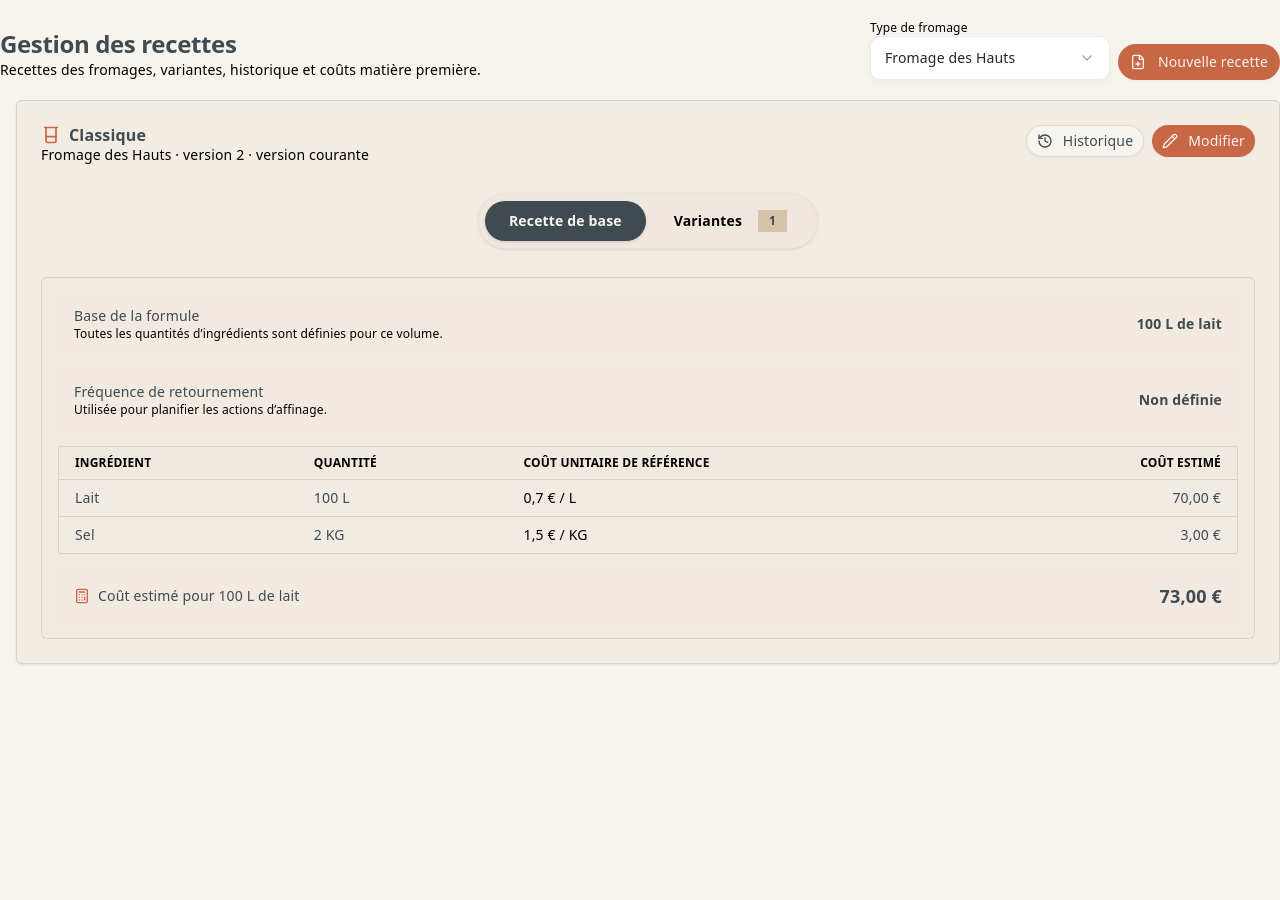
Test: gestion des recettes › conserve le formulaire ouvert et sa saisie après une erreur backend
Click the button "Modifier".
click(1204, 141)  # box [1152, 125, 1255, 157]
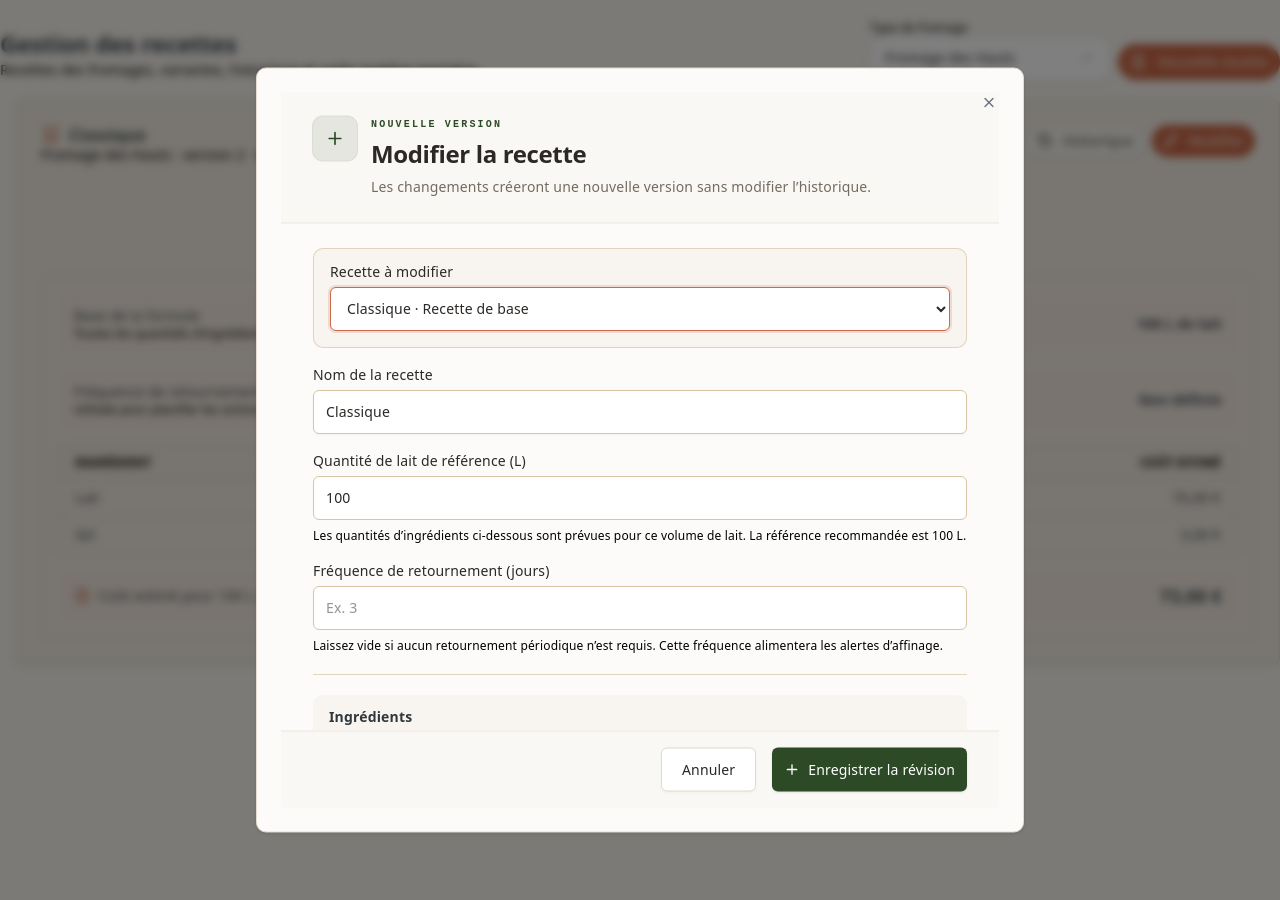
Click the button "Enregistrer la révision".
click(870, 770)  # box [772, 748, 967, 792]
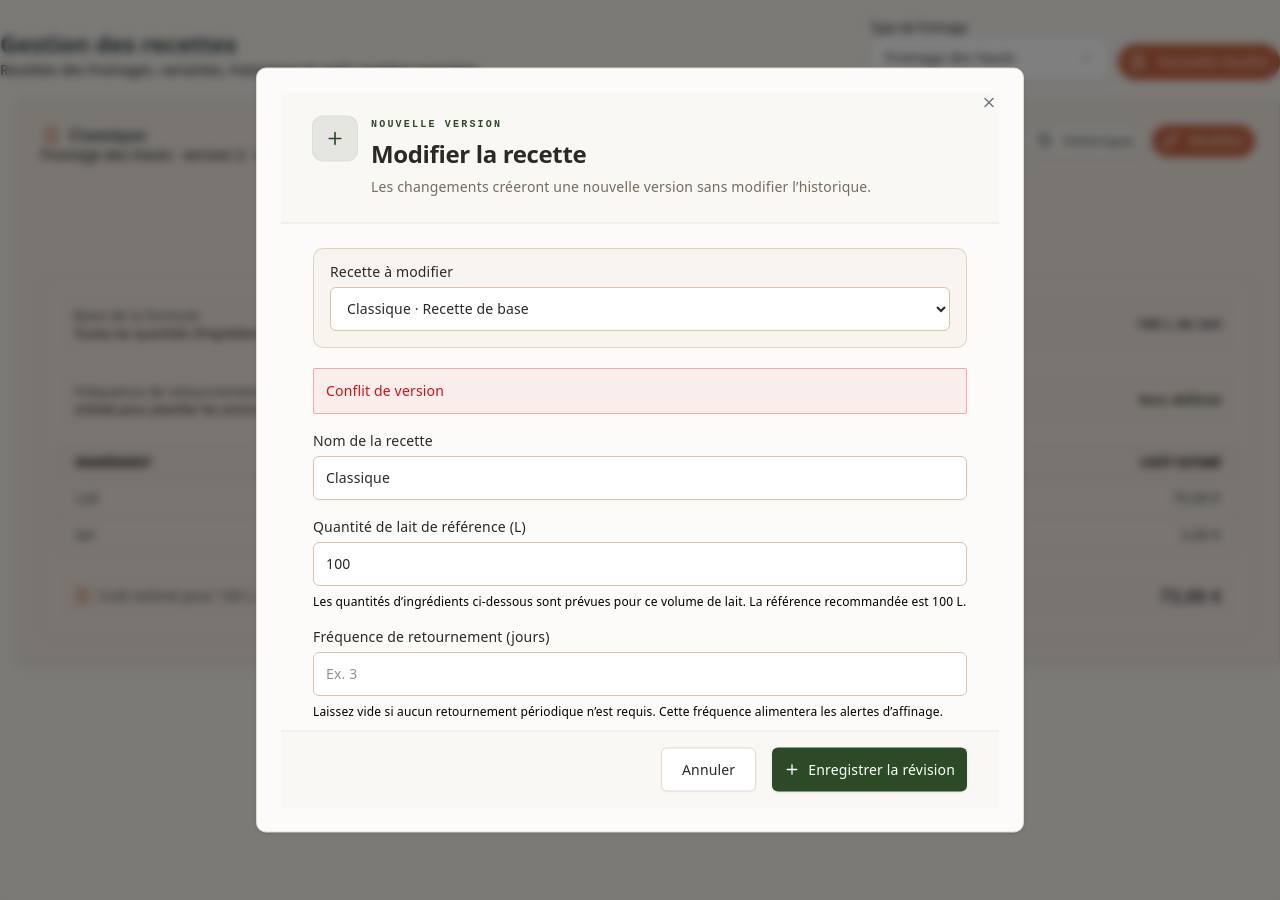
Check: the field labelled "Nom de la recette" holds "Classique", box [313, 455, 967, 499]
Check: the dialog is shown, box [256, 68, 1024, 832]
Check: the text "Conflit de version" is shown, box [326, 380, 444, 399]
